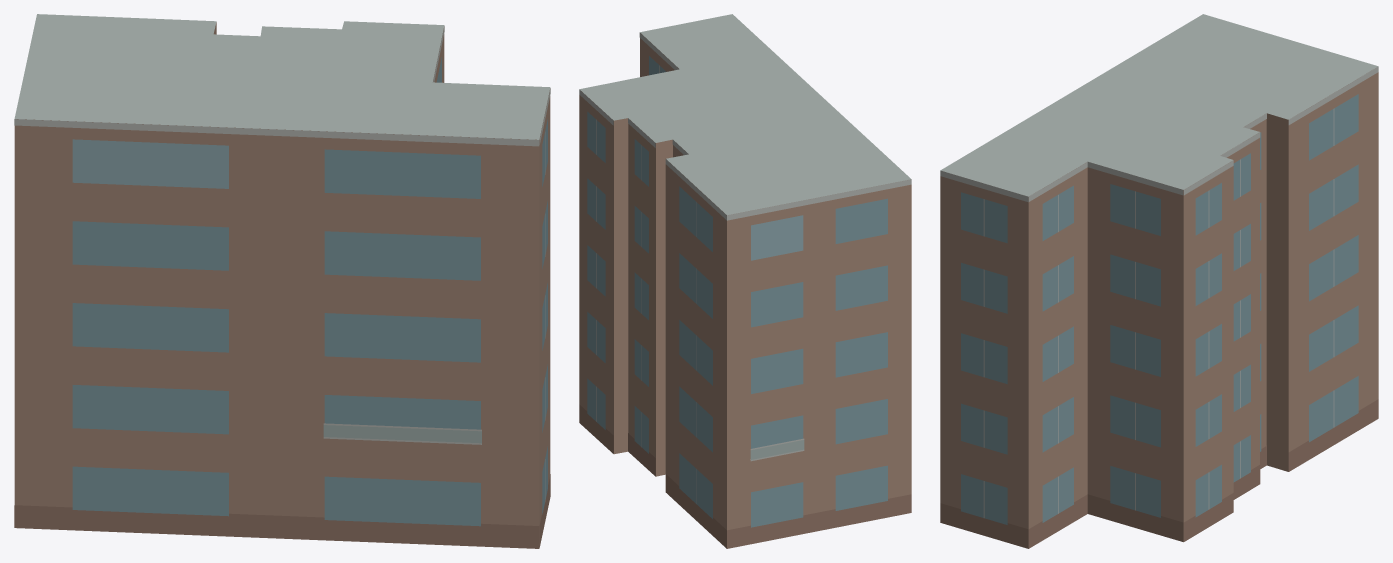
Rendered from survey-upis-32776259.glb.
The picture shows the model from 3 angles, left to right: view 1: azimuth 30°, elevation 25°; view 2: azimuth 150°, elevation 25°; view 3: azimuth 270°, elevation 25°; orthographic projection. The views are drawn at different scales.
Parts seen in each view (by area): view 1: survey-upis-32776259.tmp; view 2: survey-upis-32776259.tmp; view 3: survey-upis-32776259.tmp.
Part boxes in pixels (x1=…): survey-upis-32776259.tmp: x1=14, y1=14, x2=550, y2=548; survey-upis-32776259.tmp: x1=579, y1=14, x2=911, y2=548; survey-upis-32776259.tmp: x1=940, y1=14, x2=1378, y2=548.
Size of the model in its own units: 16.97 by 15.25 by 17.21.
